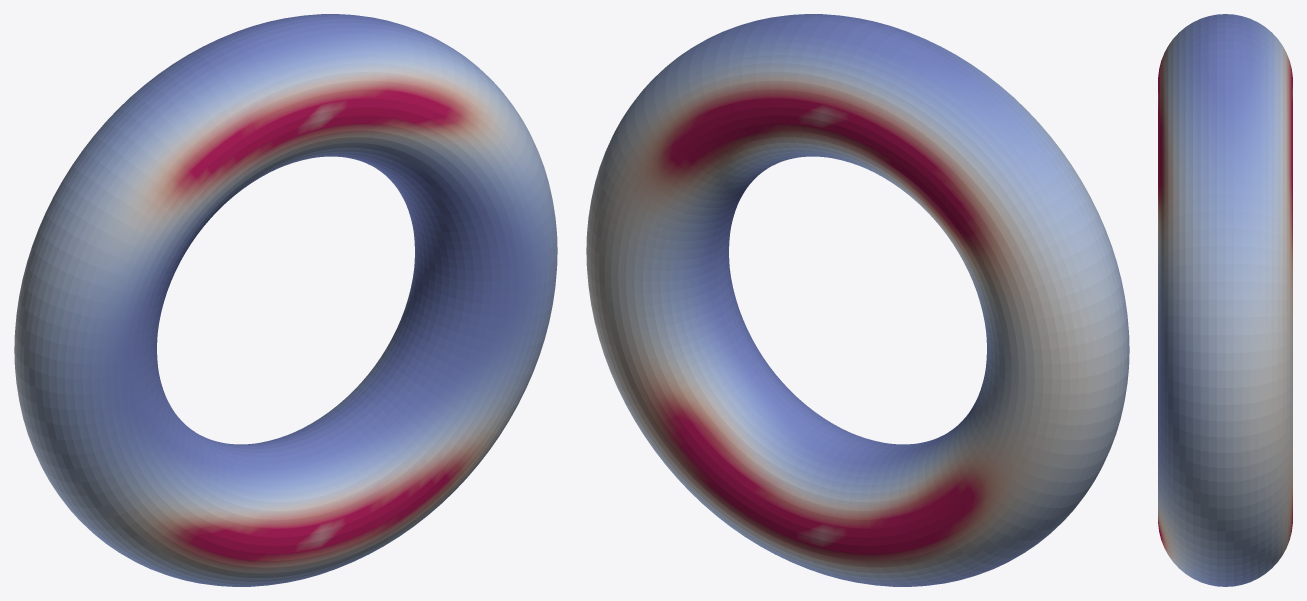
3 renders of one model, left to right at view 1: azimuth 30°, elevation 25°; view 2: azimuth 150°, elevation 25°; view 3: azimuth 270°, elevation 25°, orthographic. The views are drawn at different scales.
Visible parts, largest first — view 1: world; view 2: world; view 3: world.
Boxes of the visible parts, x1=… form: world: x1=14, y1=14, x2=557, y2=586; world: x1=586, y1=14, x2=1129, y2=586; world: x1=1158, y1=14, x2=1292, y2=586.
Size of the model in its own units: 20.93 by 20.93 by 4.92.
